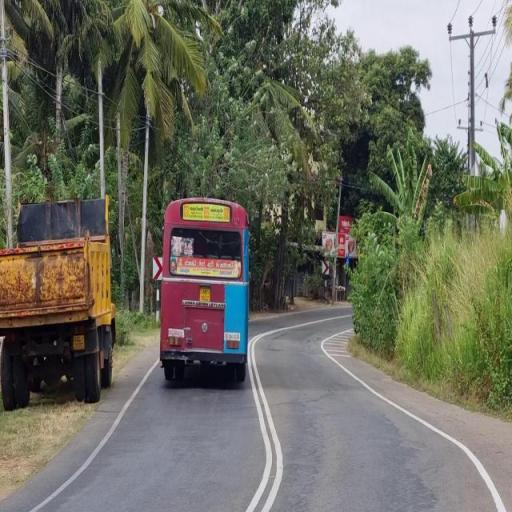double_white_line: (323, 328, 508, 510), (28, 358, 158, 511), (243, 326, 288, 512)
